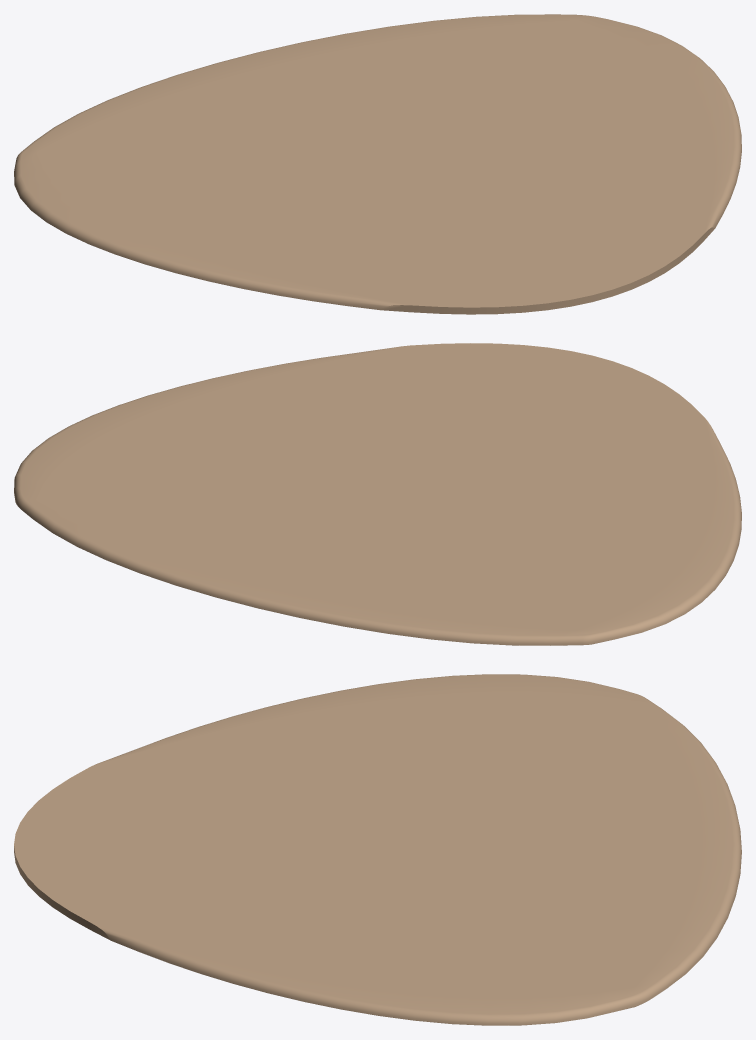
Rendered from ThumperDrool.fbx.
3 renders of one model, top to bottom at view 1: azimuth 30°, elevation 25°; view 2: azimuth 150°, elevation 25°; view 3: azimuth 270°, elevation 25°, orthographic. The views are drawn at different scales.
Visible parts, largest first — view 1: Plane; view 2: Plane; view 3: Plane.
Part boxes in pixels (x1=…): Plane: x1=14, y1=14, x2=741, y2=314; Plane: x1=14, y1=343, x2=741, y2=645; Plane: x1=14, y1=674, x2=741, y2=1025.
Bounding box in the file's own units: 396 × 4.54 × 351.
